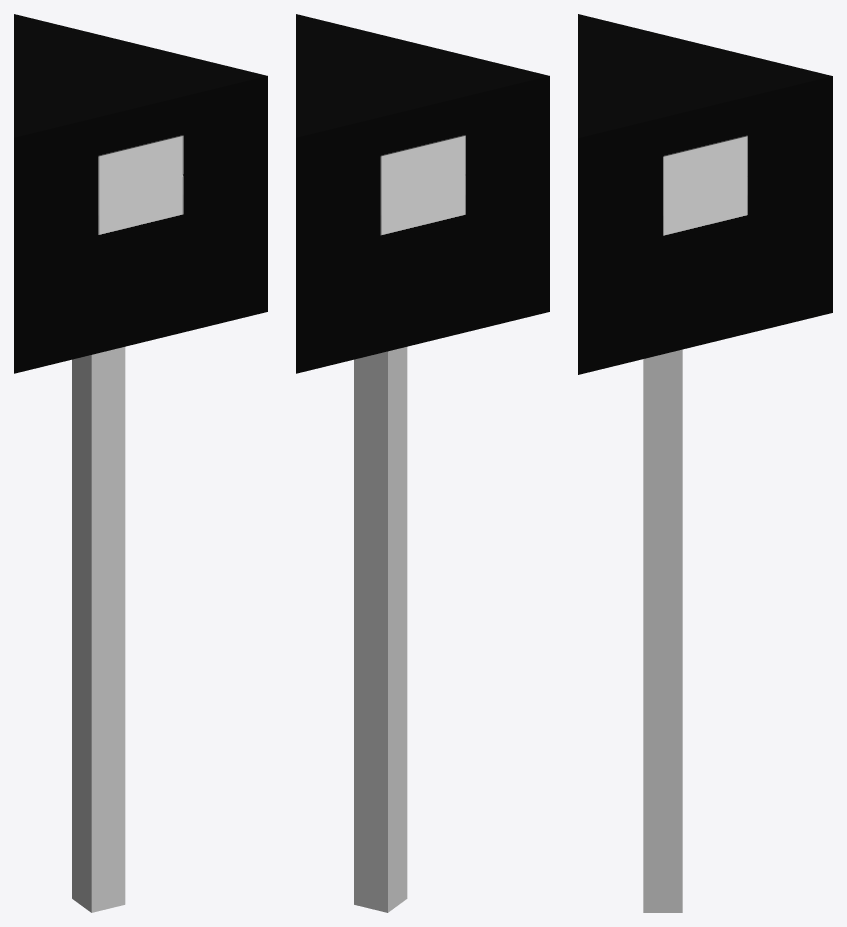
Rendered from aruco_17.dae.
3 views of the same model, side by side, from view 1: azimuth 30°, elevation 25°; view 2: azimuth 150°, elevation 25°; view 3: azimuth 270°, elevation 25° (orthographic).
Visible parts, largest first — view 1: Cylinder.001; view 2: Cylinder.001; view 3: Cylinder.001.
Part boxes in pixels (x1,y1,x2,y2): Cylinder.001: (14,14,267,912); Cylinder.001: (296,14,549,912); Cylinder.001: (578,14,832,912).
Bounding box in the file's own units: 0.2252 × 0.195 × 0.7.
Materials: 2 (1 with a texture image).
